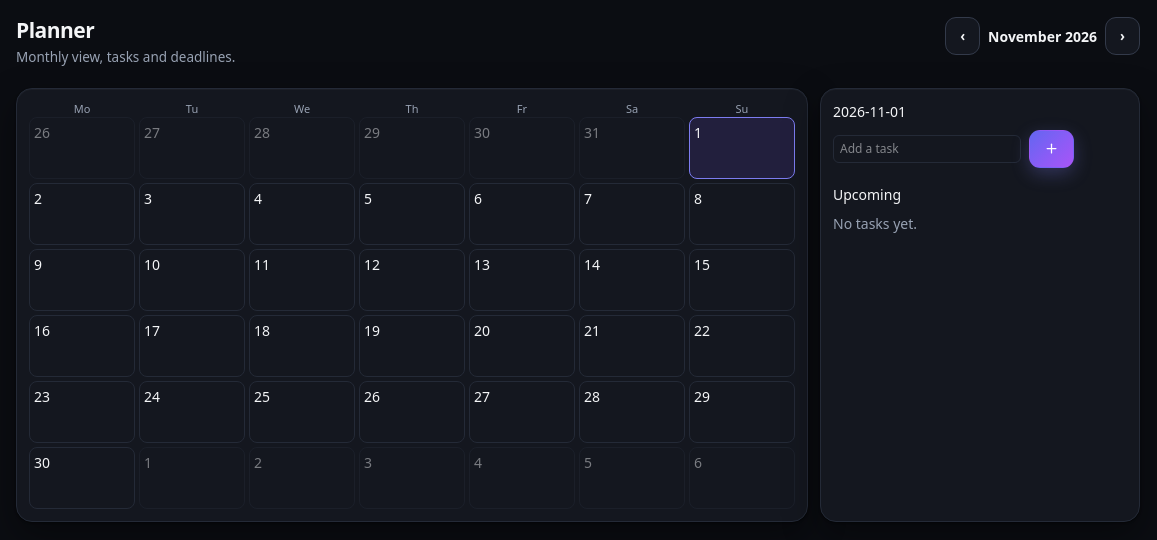
Test case: local productivity tools render and act on their stores › adds a task to the planner
This screenshot has width=1157, height=540.
expect the heading "Planner" is shown: met, box [16, 16, 94, 44]
Type "Write the release notes" into the field with placeholder "Add a task". click: (927, 148)
box: [833, 134, 1021, 162]
Then press Enter
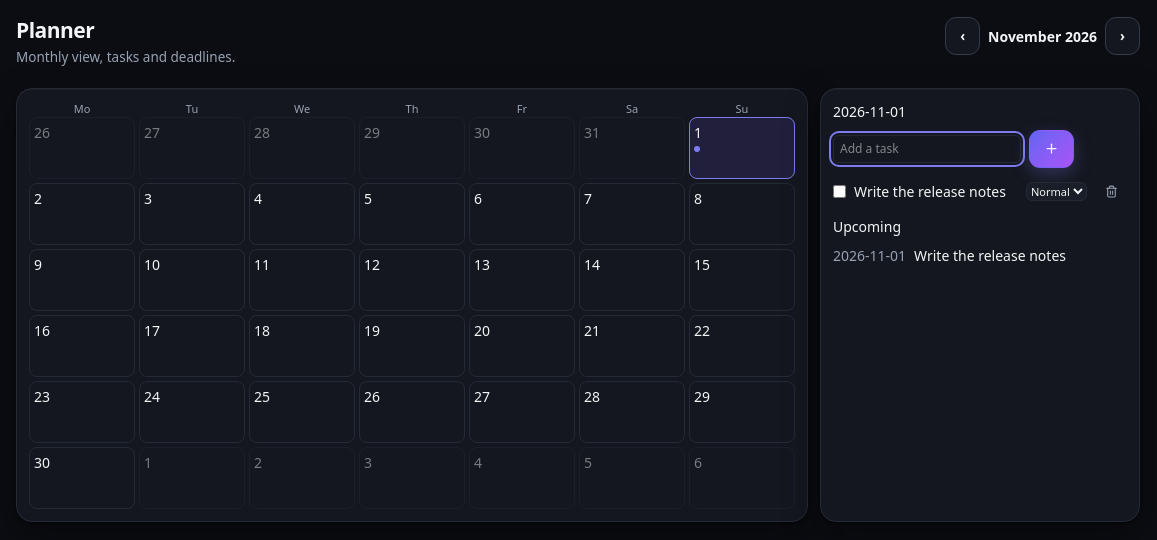
expect the 1st text "Write the release notes" is shown: met, box [854, 181, 1006, 202]
